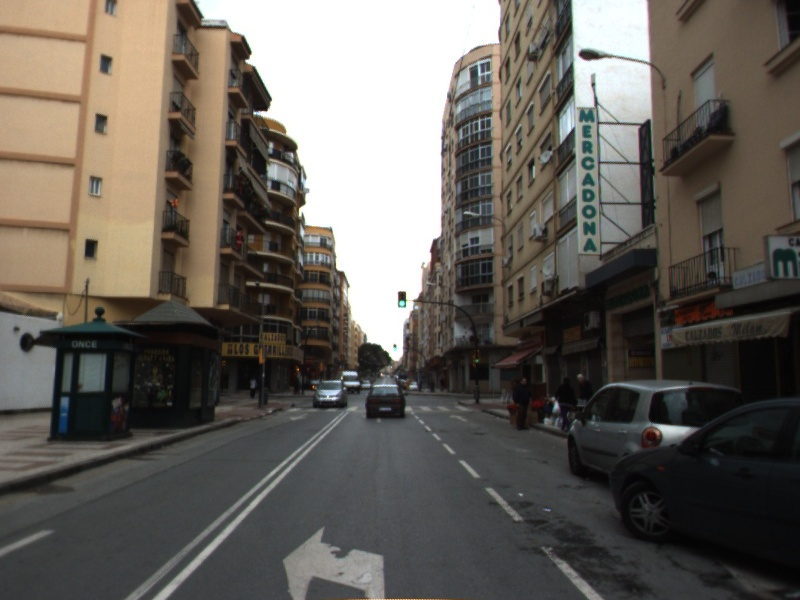LEFT: (281, 524, 386, 600)
STRAIGHT: (448, 413, 469, 423)
